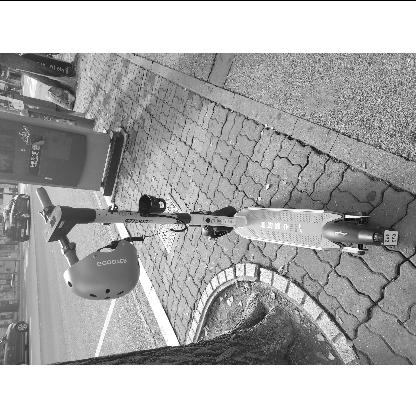bike: (35, 183, 406, 302)
traffic light: (0, 103, 111, 192), (63, 239, 141, 300)
